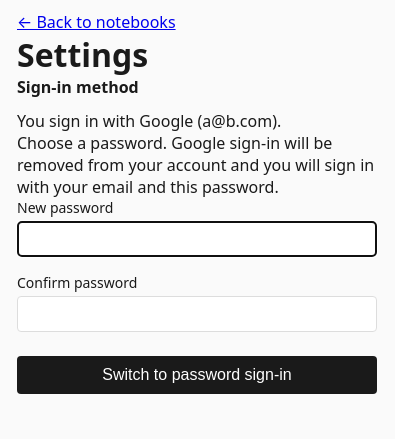
Scenario: SettingsPage › rejects mismatched passwords
This screenshot has width=395, height=439.
Step 1. Type "newsecret1" into the password field labelled "New password" → x=197, y=239, box [17,221,377,257]
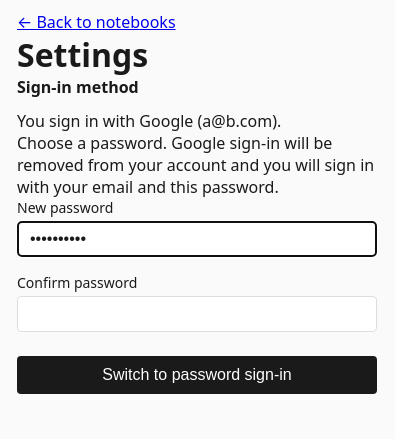
Step 2. Type "newsecret2" into the password field labelled "Confirm password" → x=197, y=314, box [17,296,377,332]
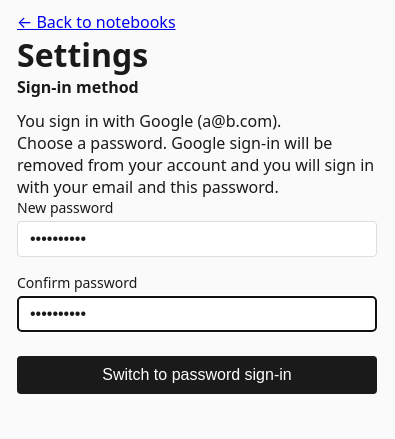
Step 3. Click the button "Switch to password sign-in" → x=197, y=375, box [17,356,377,394]
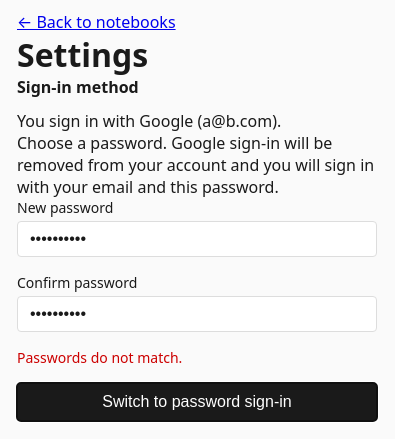
Now the text "Passwords do not match." is shown, box [17,348,182,367]
